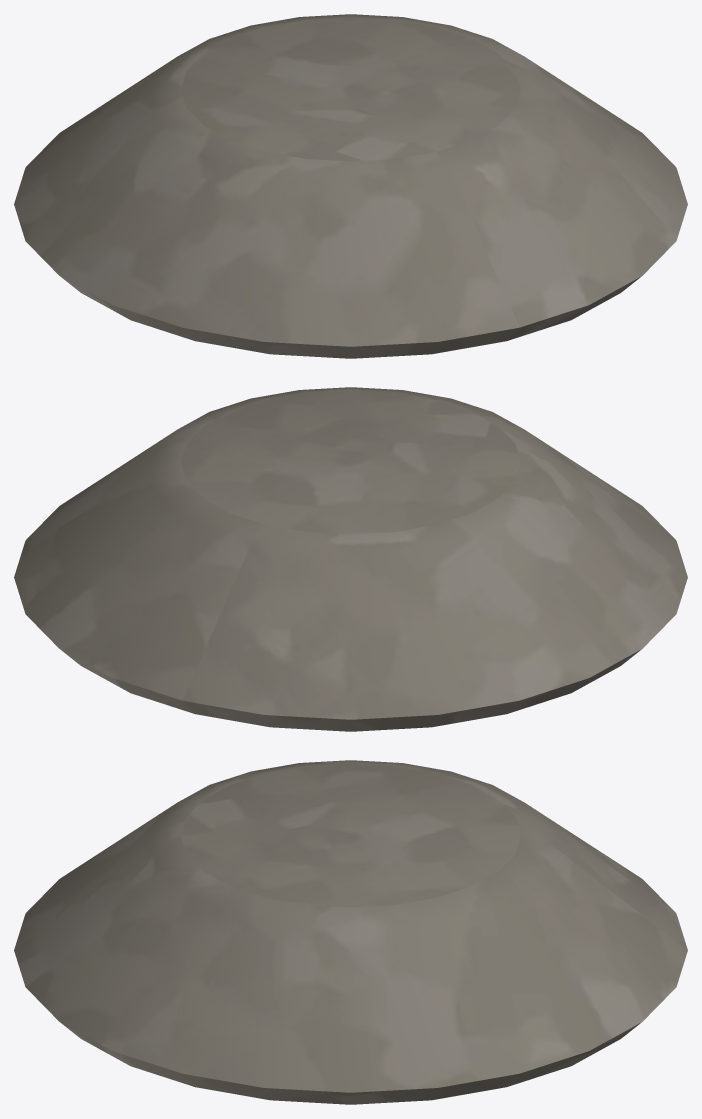
Rendered from Part - Simlpe form 10-CxEhDedb.glb.
3 views of the same model, one above another, from view 1: azimuth 30°, elevation 25°; view 2: azimuth 150°, elevation 25°; view 3: azimuth 270°, elevation 25° (orthographic).
Parts seen in each view (by area): view 1: Simlpe_form_10; view 2: Simlpe_form_10; view 3: Simlpe_form_10.
Part boxes in pixels (x1,y1,x2,y2): Simlpe_form_10: [14, 14, 687, 358]; Simlpe_form_10: [14, 387, 687, 731]; Simlpe_form_10: [14, 760, 687, 1104].
Bounding box in the file's own units: 1 × 0.2251 × 1.
1 material, 1 textured.
